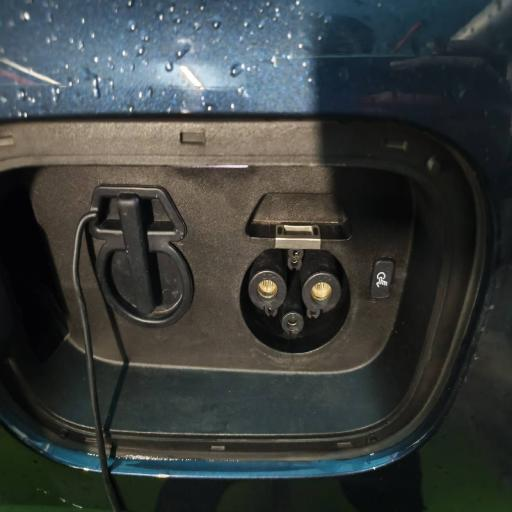DC_hole: (246, 268, 288, 312), (300, 272, 342, 316)
PE: (281, 312, 304, 338)
charging_port: (236, 242, 354, 358)
